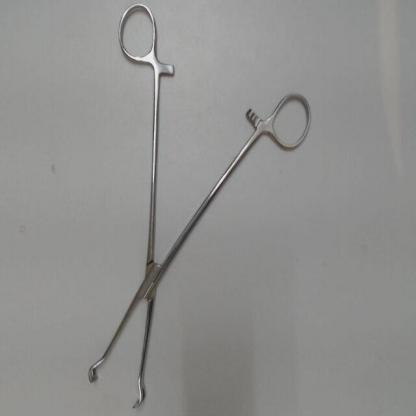8 Babcock Tissue Forceps: (80, 2, 314, 413)
